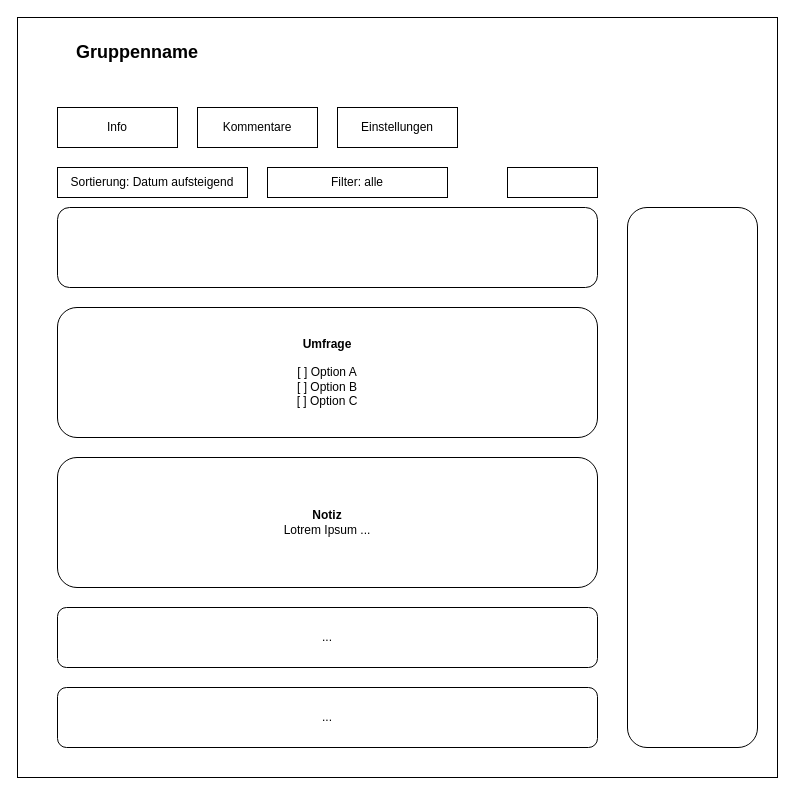
Some shapes in this 795 by 795 pixel diagram are drawn without their labels. The shapes that lost their labels are listed below. From the top down, each one's centre as x and y in pixels, then its label:
At point (552, 182): "Neu".
At point (327, 247): "Termin 01.01.2000 12:00 Uhr (in xx Tagen) Beschreibung ...".
At point (692, 477): "Mitgliederliste".
